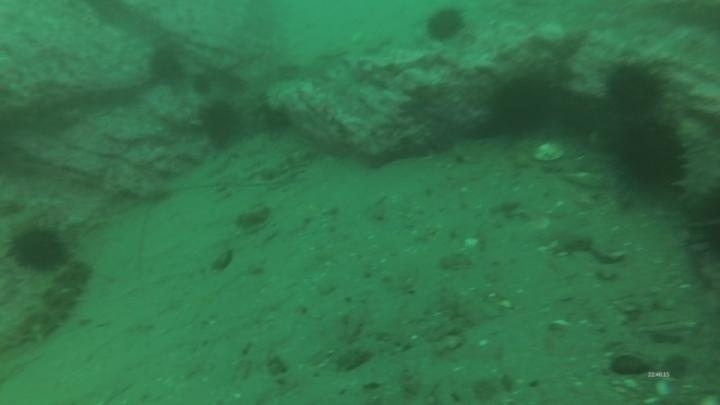echinus: (609, 115, 689, 194), (485, 69, 560, 139), (602, 58, 669, 116), (677, 184, 720, 272), (7, 222, 70, 274), (197, 98, 243, 148), (423, 5, 467, 45), (146, 44, 186, 86), (190, 71, 215, 98)
holothurian: (6, 258, 92, 350), (671, 115, 719, 212)
